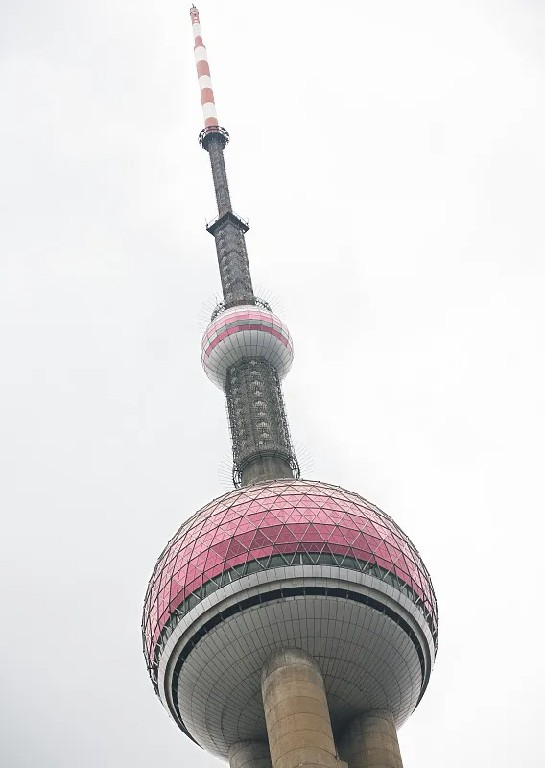Oriental: (141, 2, 438, 768)
